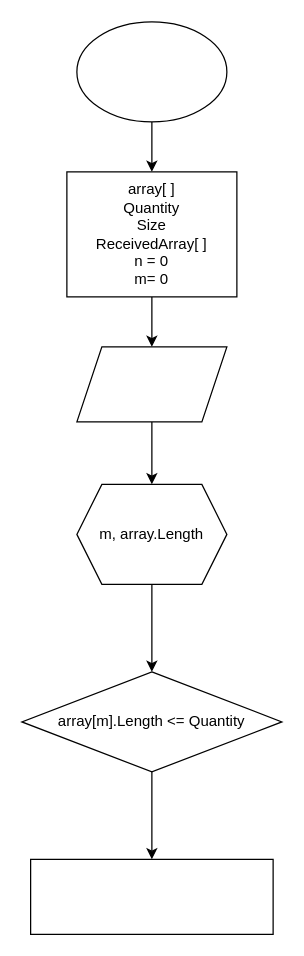
The diagram is 304 pixels wide and 956 high, and some of its shapes have lost their labels. Each missing label, with the box of its shape:
array[ ] Quantity Size: (76, 346, 227, 422)
Start: (76, 21, 227, 122)
